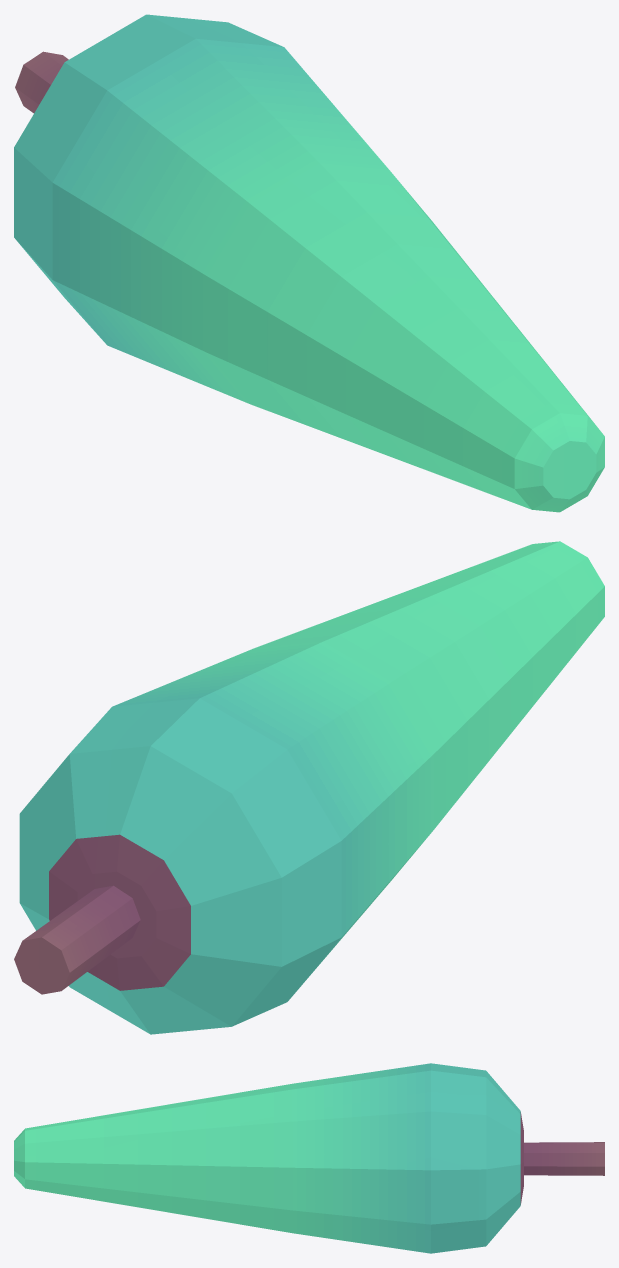
File: tree5.glb
3 views of the same model, one above another, from view 1: azimuth 30°, elevation 25°; view 2: azimuth 150°, elevation 25°; view 3: azimuth 270°, elevation 25° (orthographic). The views are drawn at different scales.
Parts seen in each view (by area): view 1: bush.004_22; view 2: bush.004_22; view 3: bush.004_22.
Part boxes in pixels (<box>): bush.004_22: <box>14,14,604,512</box>; bush.004_22: <box>14,541,604,1034</box>; bush.004_22: <box>14,1063,604,1253</box>.
Bounding box in the file's own units: 1.93 × 2.03 × 6.18.
1 material, 1 textured.
